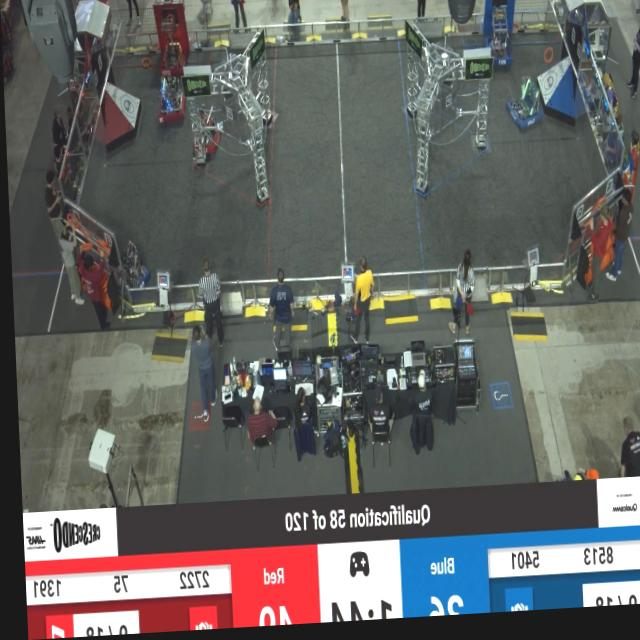Robot: (108, 232, 151, 304), (151, 3, 186, 82), (187, 104, 221, 170), (504, 81, 542, 140), (482, 5, 512, 78), (156, 75, 186, 128)
